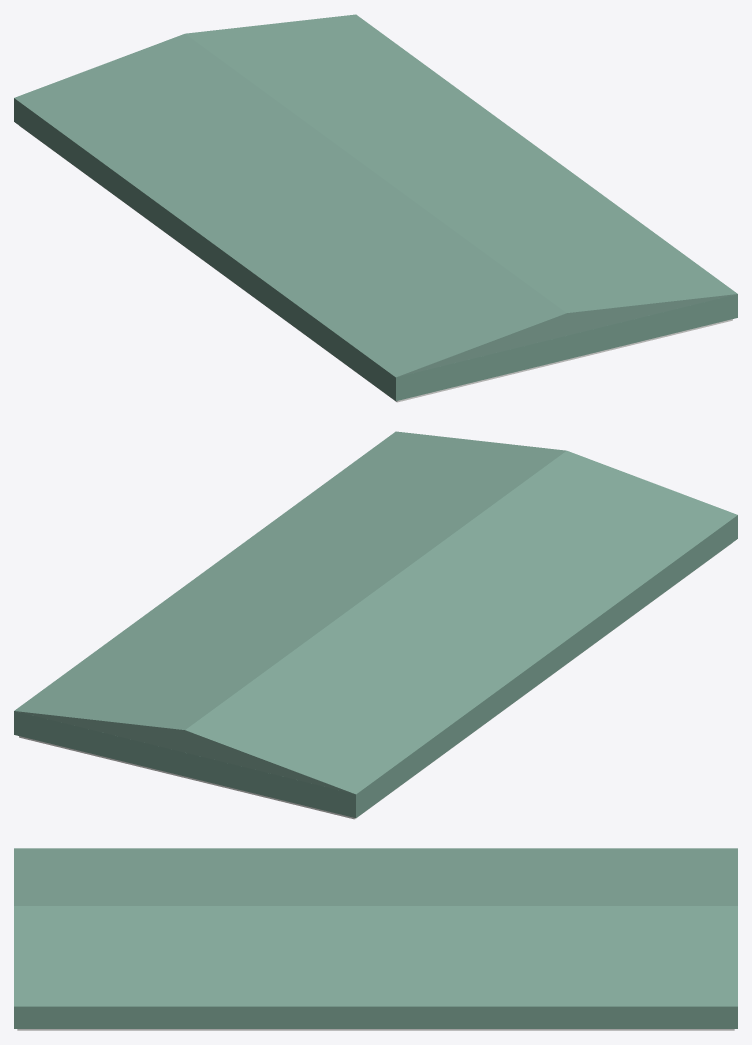
The model's file is hall_roof.glb.
The picture shows the model from 3 angles, top to bottom: view 1: azimuth 30°, elevation 25°; view 2: azimuth 150°, elevation 25°; view 3: azimuth 270°, elevation 25°; orthographic projection. The views are drawn at different scales.
Visible parts, largest first — view 1: hall_roof__roofMetal, hall_roof__green, hall_roof__slab; view 2: hall_roof__roofMetal, hall_roof__green, hall_roof__slab; view 3: hall_roof__roofMetal, hall_roof__green, hall_roof__slab.
Boxes of the visible parts, x1,y1,x2,y2 form: hall_roof__roofMetal: (14,14,737,377); hall_roof__green: (14,98,737,400); hall_roof__slab: (20,126,732,402); hall_roof__roofMetal: (14,431,737,794); hall_roof__green: (14,515,737,817); hall_roof__slab: (19,543,731,819); hall_roof__roofMetal: (14,848,737,1006); hall_roof__green: (14,1006,737,1028); hall_roof__slab: (17,1029,734,1030).
Size of the model in its own units: 27 by 3.75 by 52.2.
